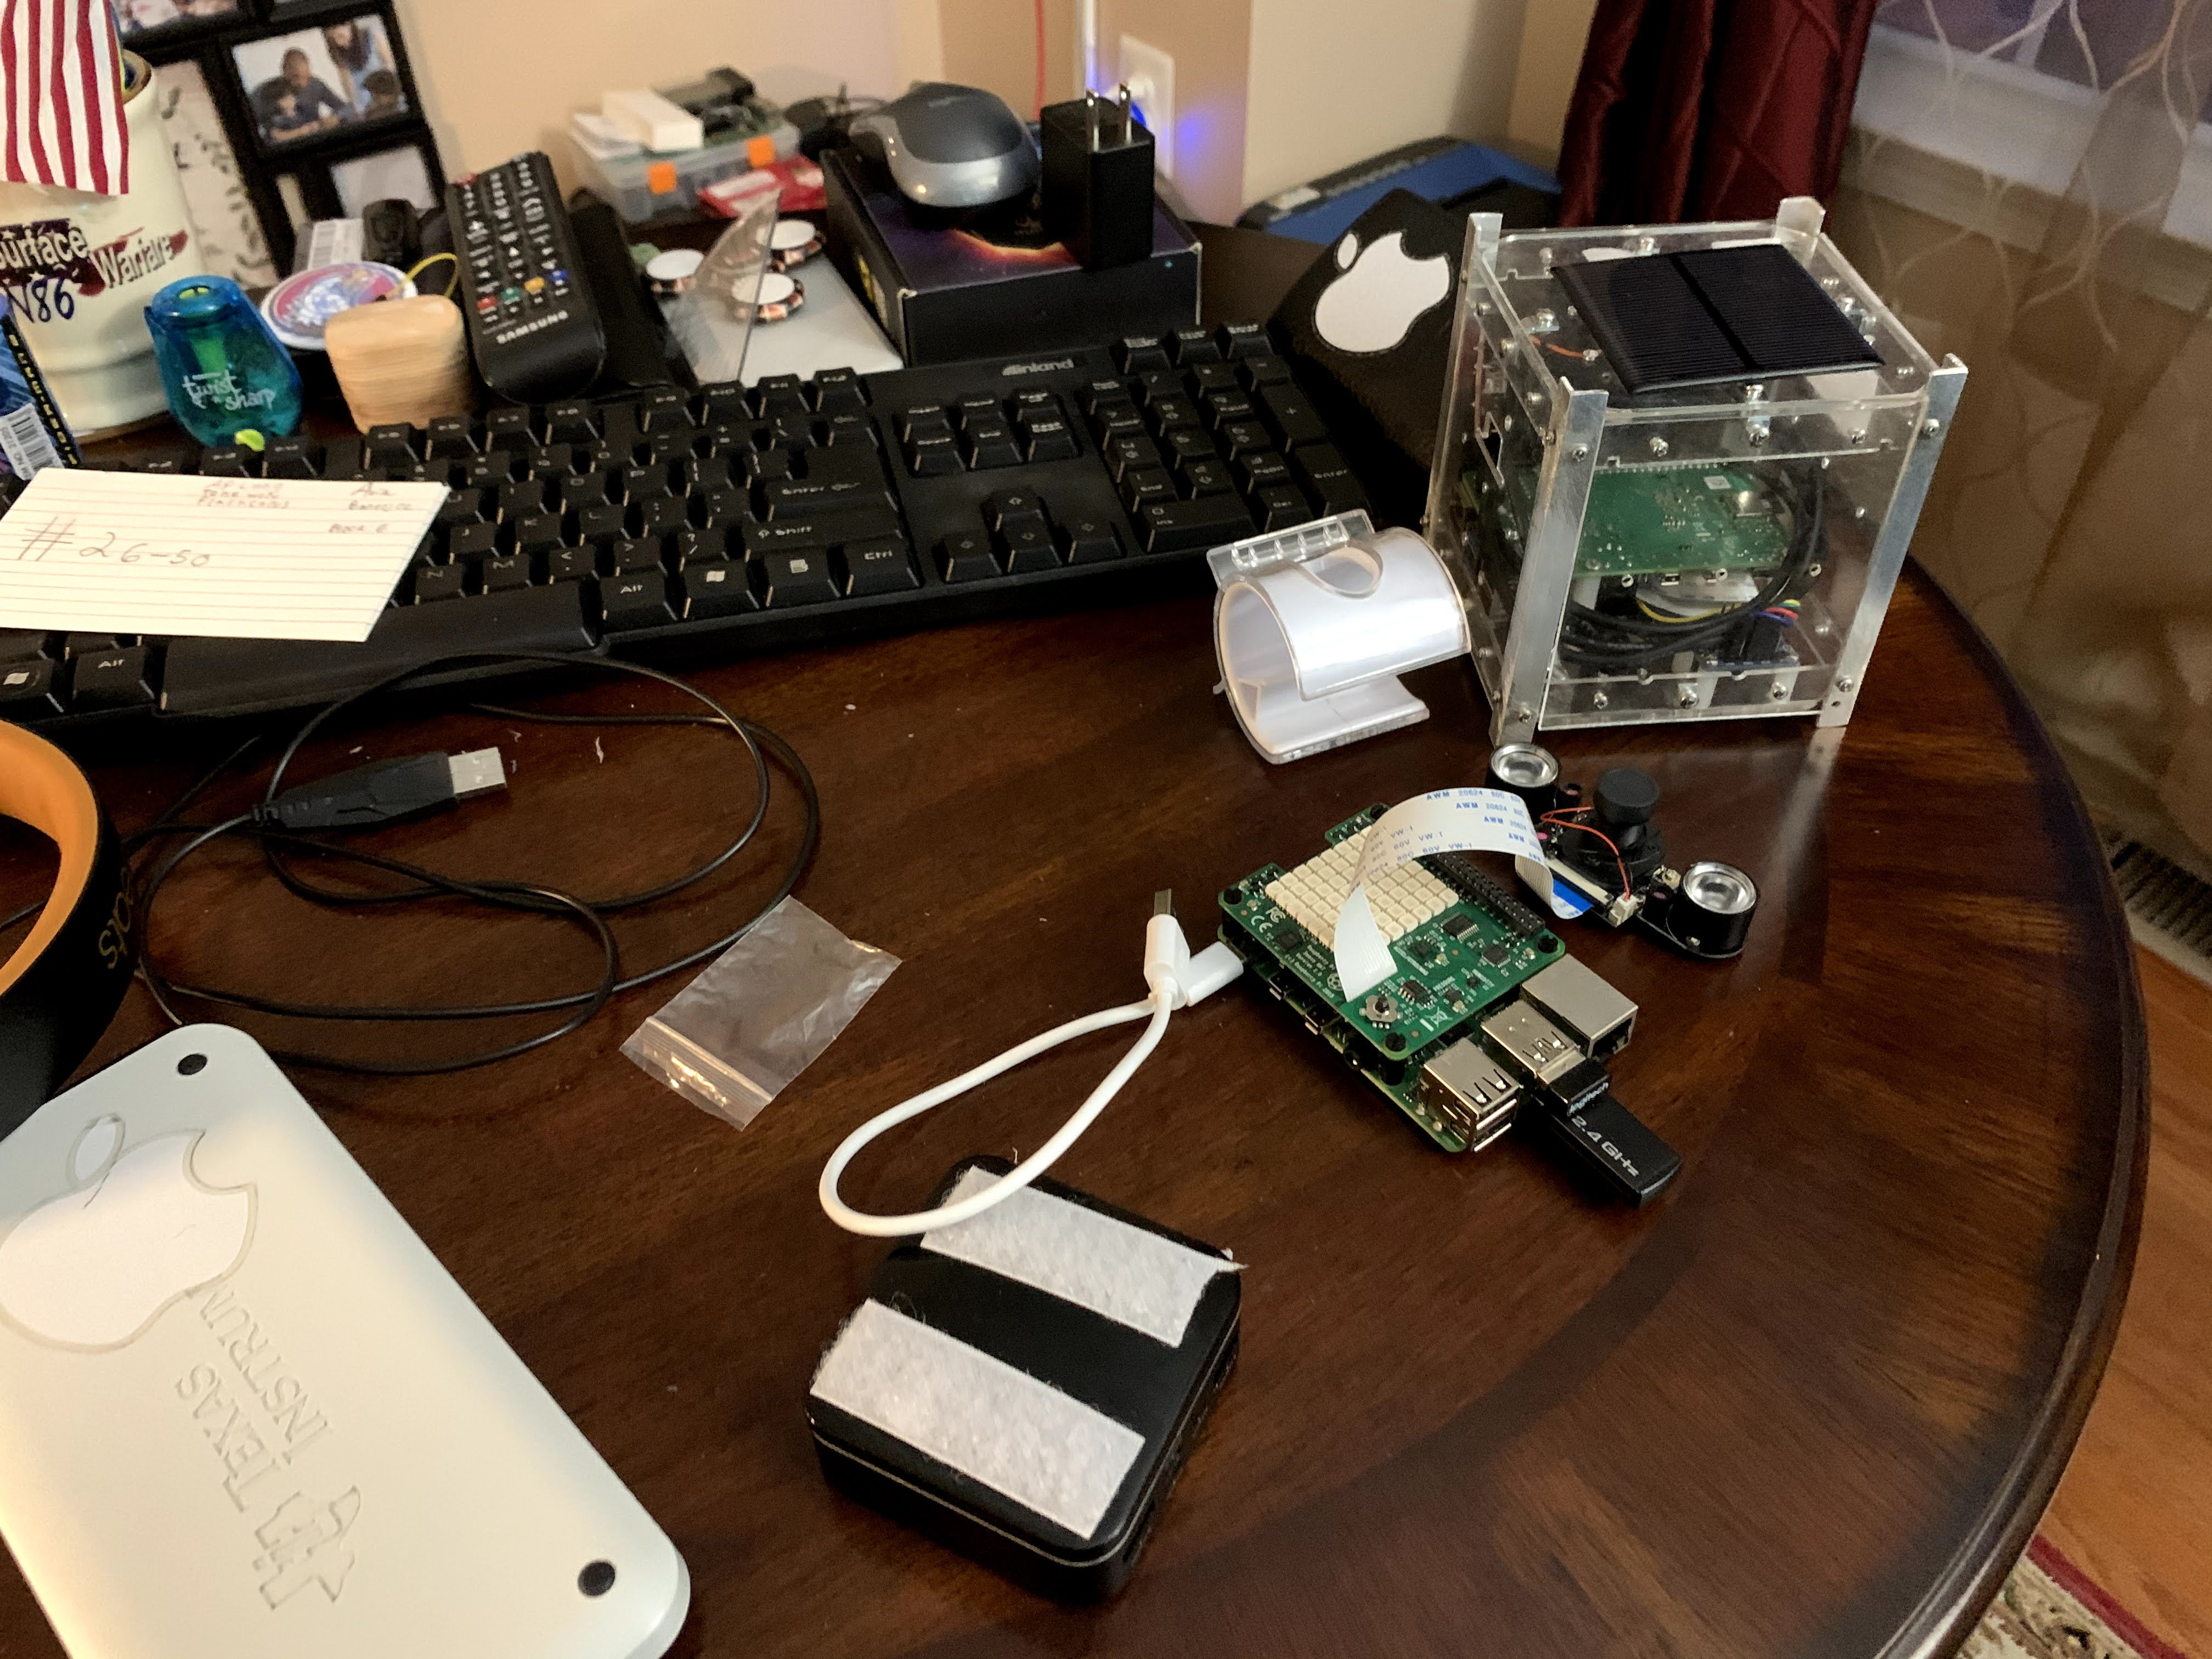Space-debris-cubesat: (1420, 171, 1984, 744)
